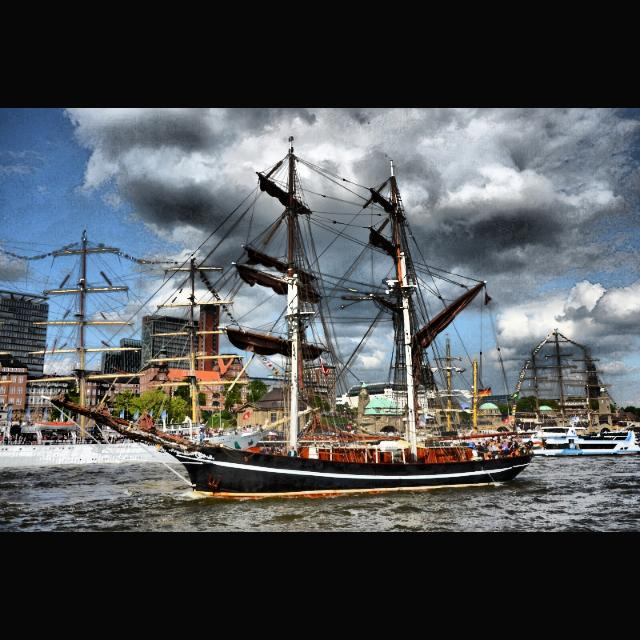sailing_vessel: (46, 135, 538, 501)
